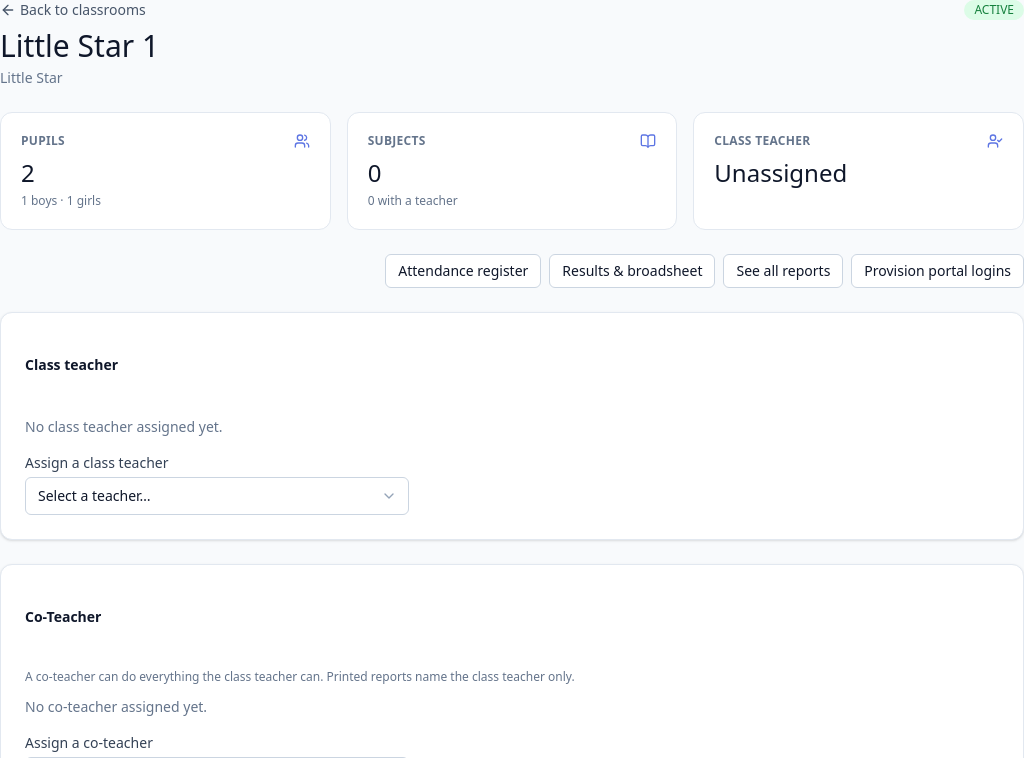
it: ClassDetailPage - provision portal logins › provisions logins and shows a per-row outcome, including an un-emailable temporary password
The image size is (1024, 758).
Expected: the heading "Little Star 1" is shown, [0, 28, 159, 64]
Click the button "Provision portal logins" at (938, 271), box [851, 254, 1023, 288]
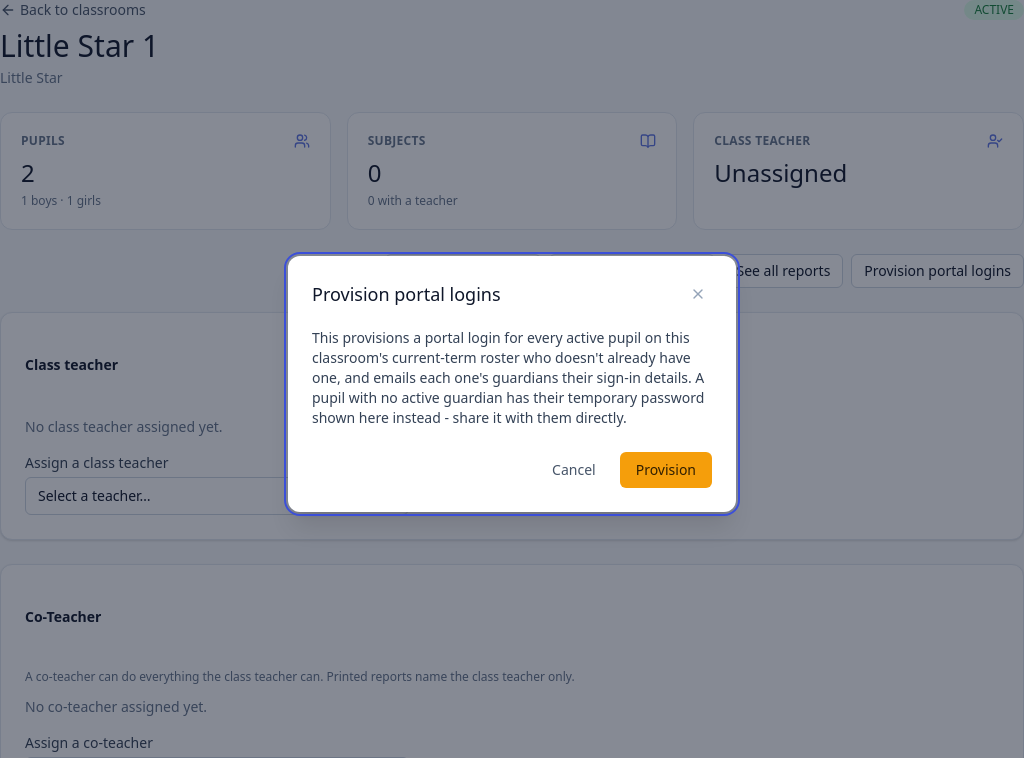
Click the button "Provision" at (666, 470), box [620, 452, 712, 488]
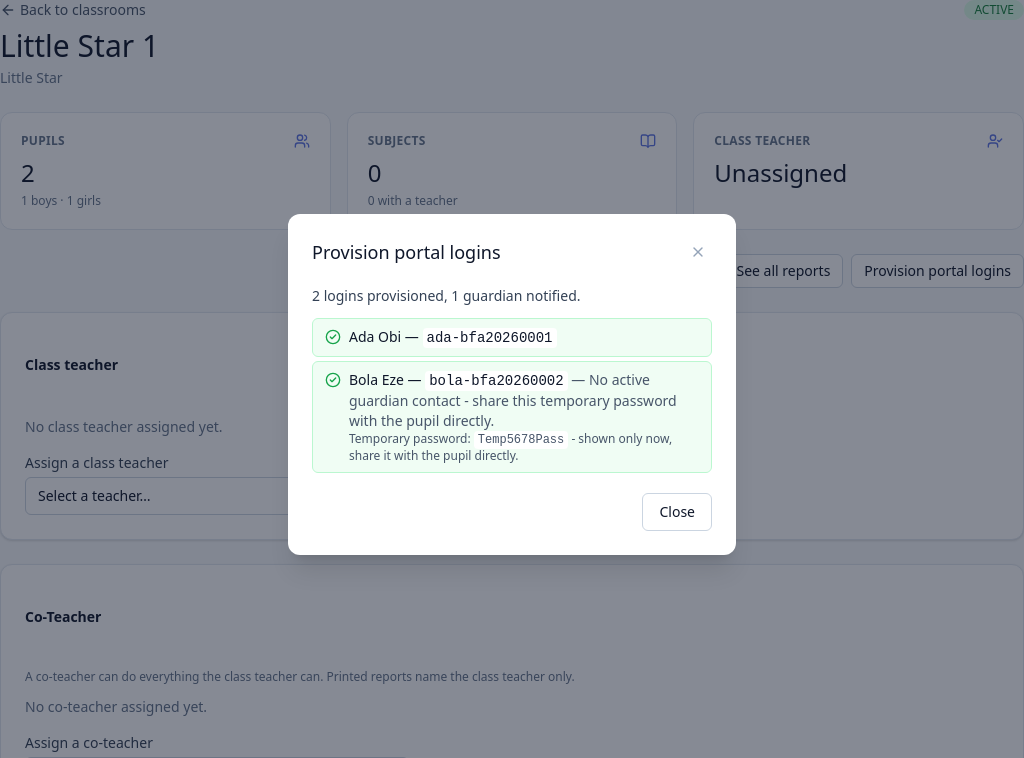
Now the text "Ada Obi" is shown, box [349, 326, 401, 346]
Now the text "2" is shown, box [312, 286, 320, 304]
Now the text "1" is shown, box [451, 286, 459, 304]
